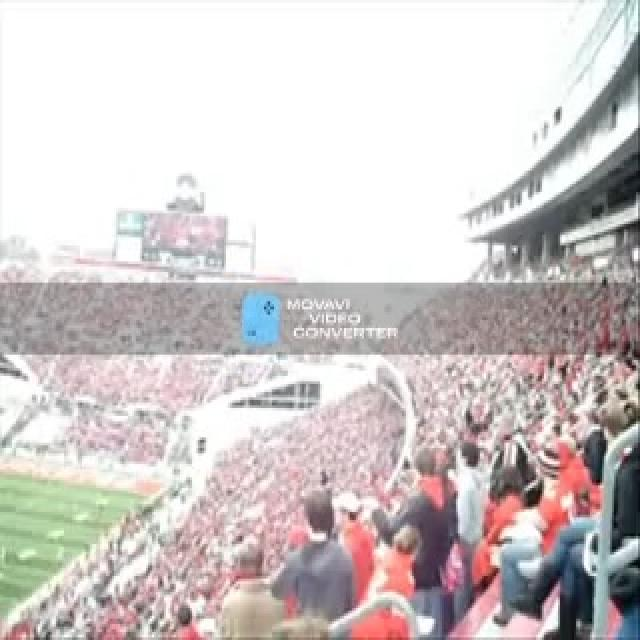non-voilence: (0, 248, 638, 637), (282, 293, 398, 344)
